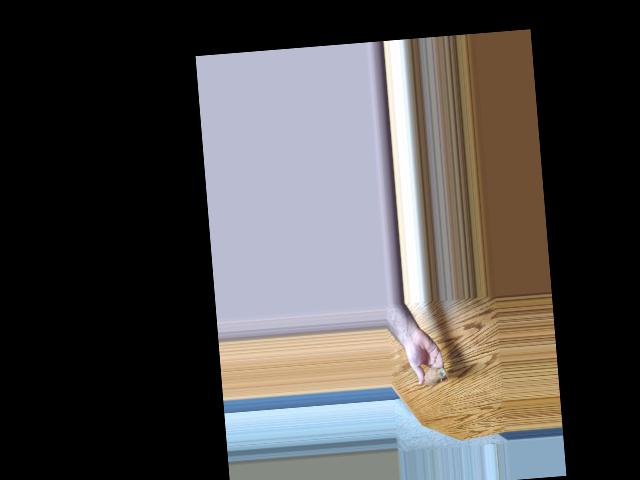sweet_potato: (420, 367, 447, 393)
